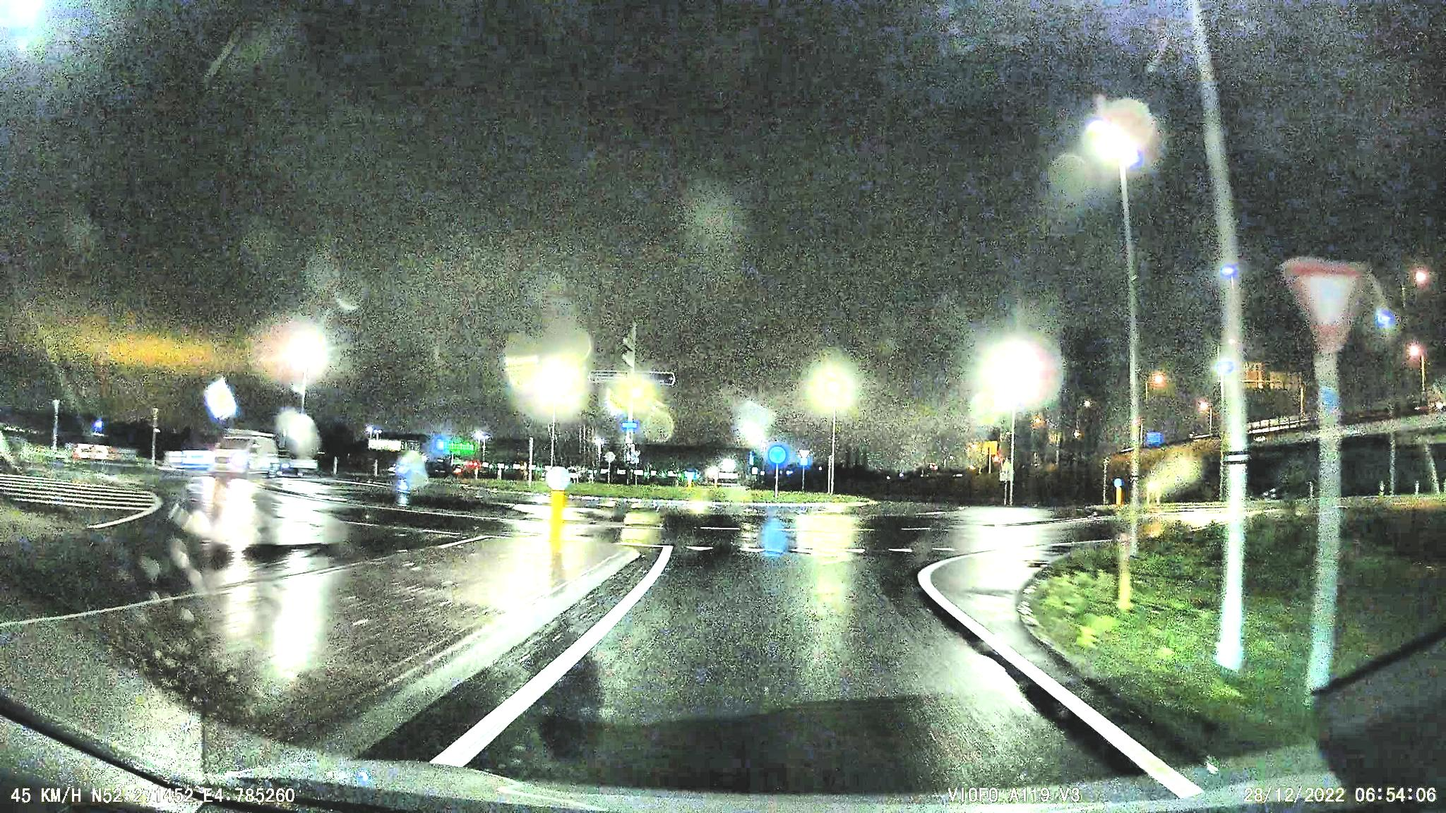Roads: (121, 479, 1131, 766)
